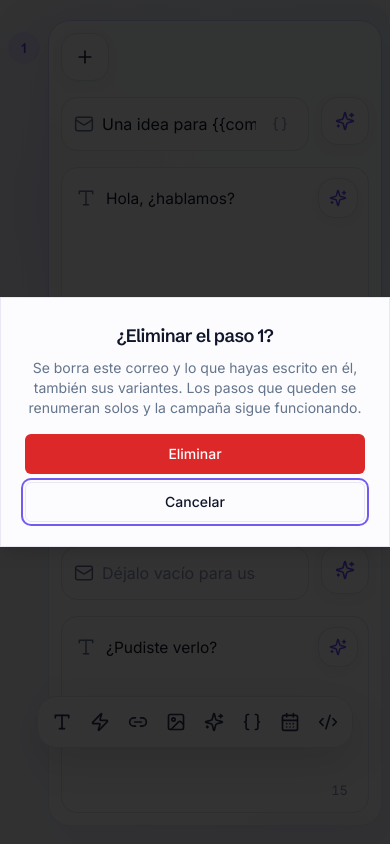
it: Editor de secuencia › si se dice que no, el paso no se toca
Earlier steps of the test are not shown.
Click the button "Cancelar" at (195, 502), box [25, 482, 365, 522]
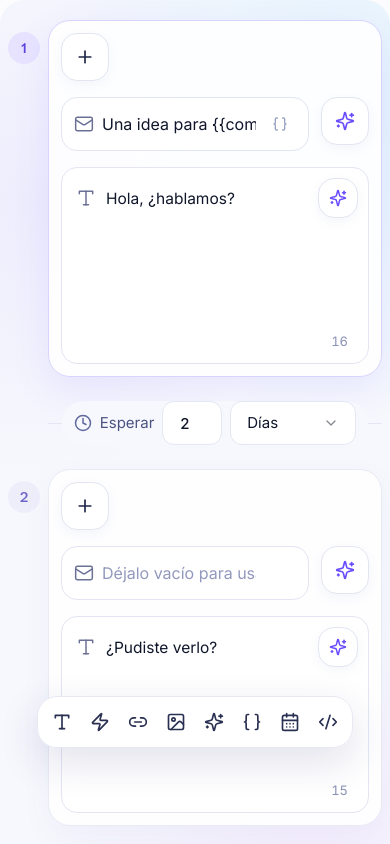
Now the heading "¿Eliminar el paso 1?" is gone
